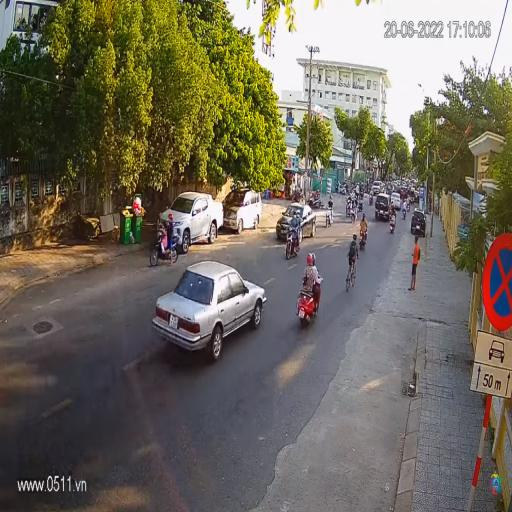car: (154, 260, 266, 359)
